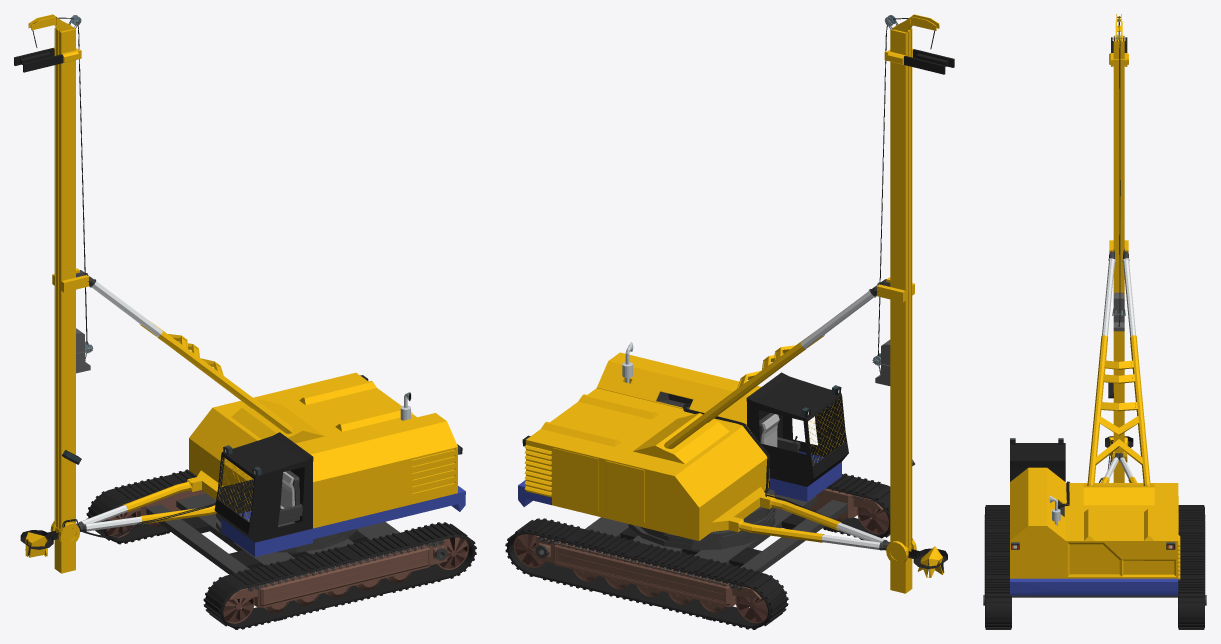
Rendered from drill-mini.glb.
3 views of the same model, side by side, from view 1: azimuth 30°, elevation 25°; view 2: azimuth 150°, elevation 25°; view 3: azimuth 270°, elevation 25° (orthographic). The views are drawn at different scales.
Parts seen in each view (by area): view 1: object 1; view 2: object 1; view 3: object 1.
Boxes of the visible parts, box(x1,y1,x2,y2) form: object 1: box(14, 14, 476, 629); object 1: box(505, 14, 954, 629); object 1: box(983, 14, 1206, 629).
Size of the model in its own units: 20.74 by 30.27 by 12.77.
Materials: 1 (1 with a texture image).
